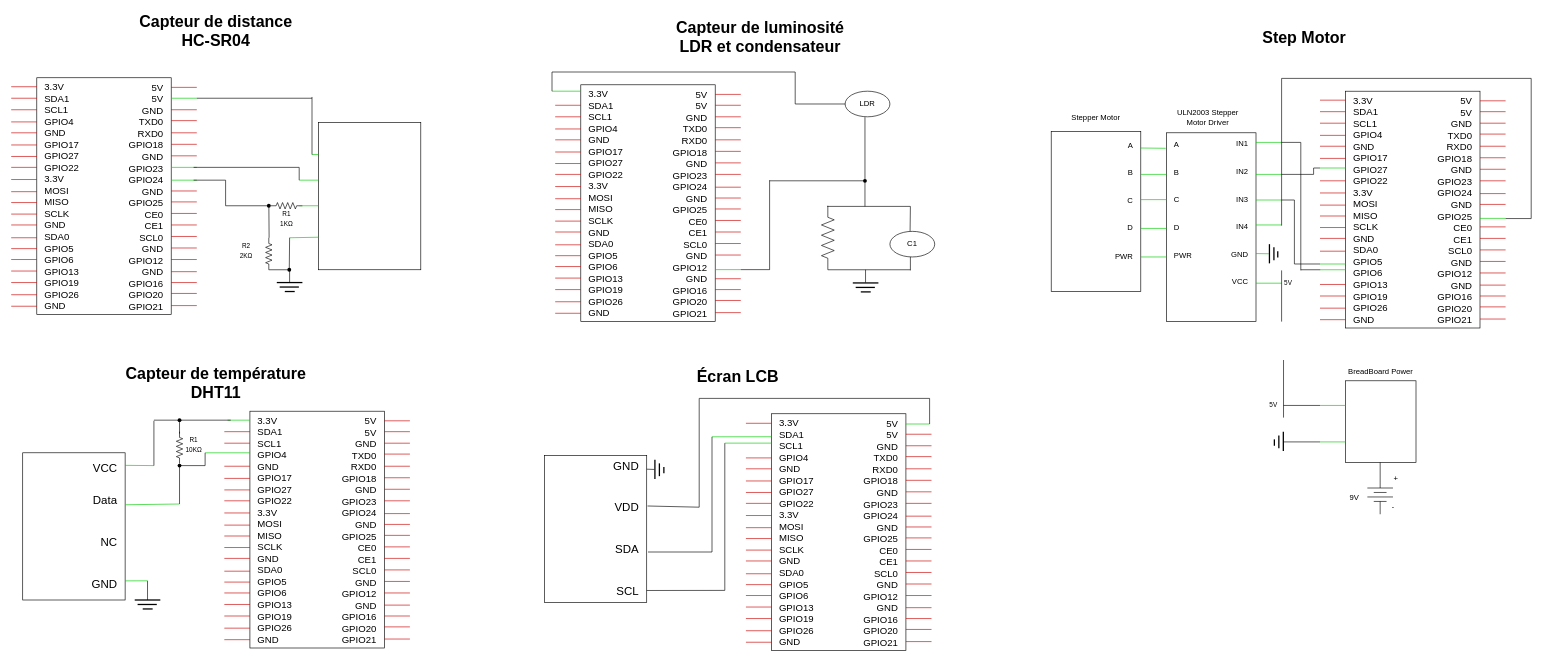
The diagram is 1543 pixels wide and 662 high, and some of its shapes have lost their labels. Here are the shapes that lost their labels. From the top down, the centre of each, then its label:
(369,196): VCC Trig Echo GND
(827,237): R1 47KΩ
(1380,421): 5V GND
